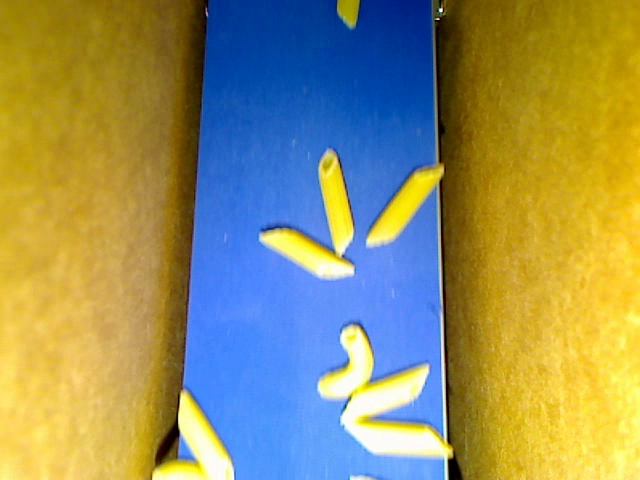elbow: (315, 324, 374, 402), (147, 457, 205, 479)
penne: (361, 162, 445, 246), (336, 364, 432, 424), (258, 225, 353, 282), (178, 384, 230, 479), (315, 146, 354, 257), (342, 423, 456, 457), (336, 1, 360, 25)
